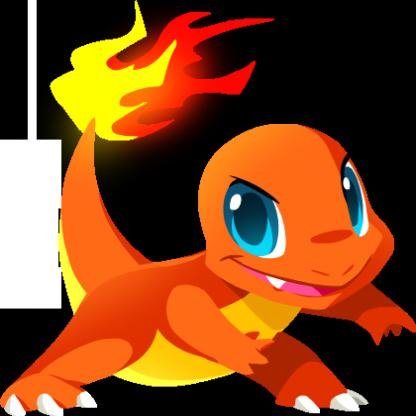Charmander: (1, 2, 416, 416)
